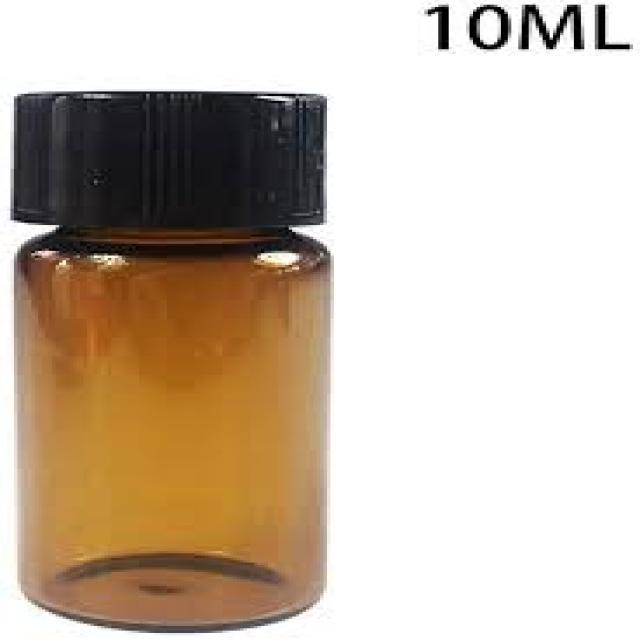glass: (11, 225, 331, 631)
plastic: (7, 89, 323, 225)
